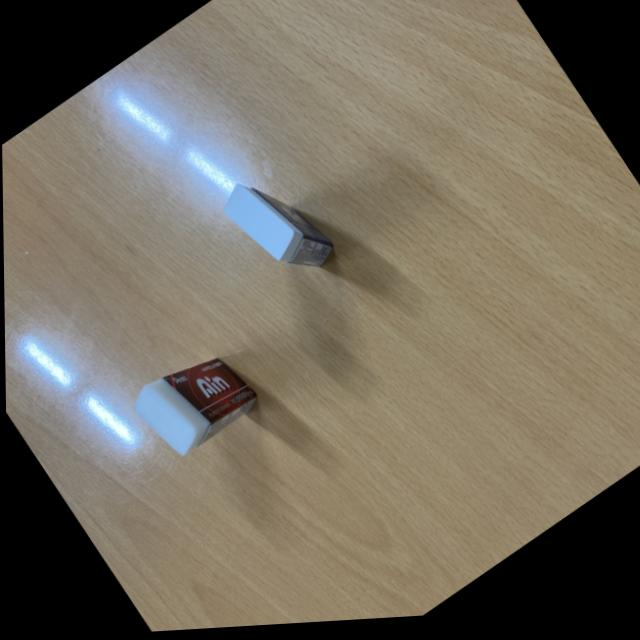blue: (210, 149, 349, 305)
red: (117, 326, 270, 480)
